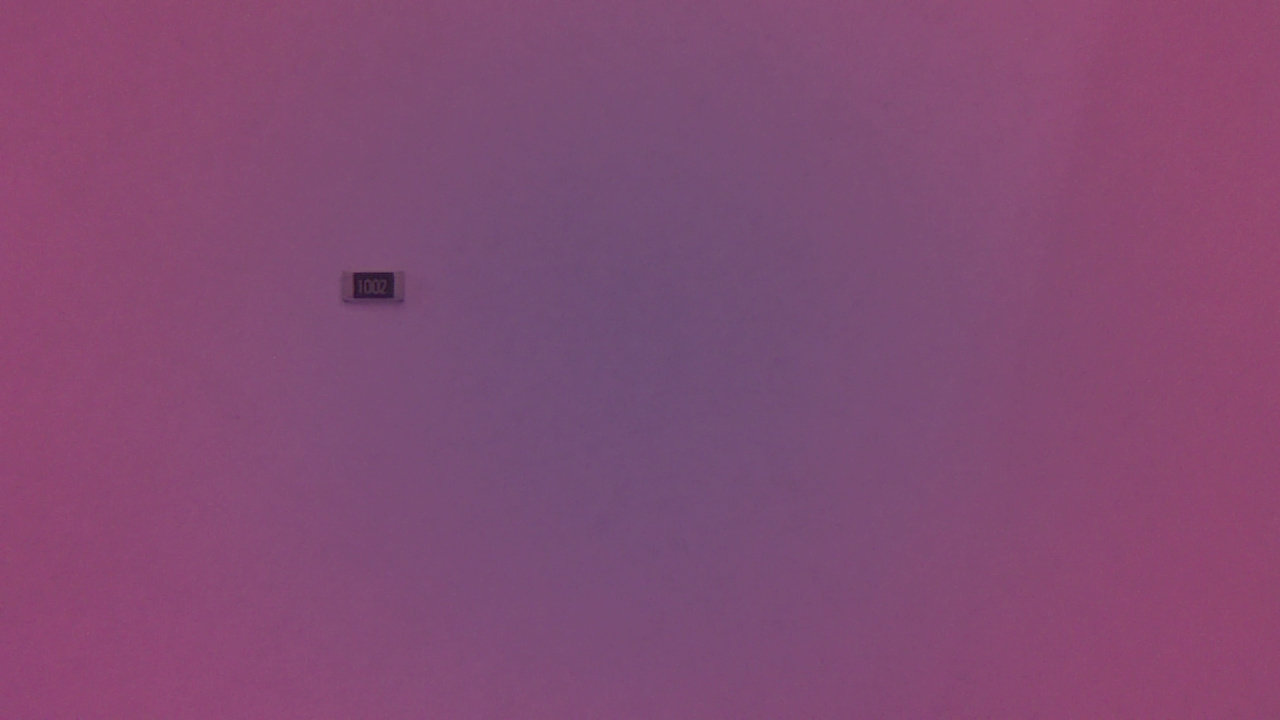Resistor: (338, 263, 419, 319)
